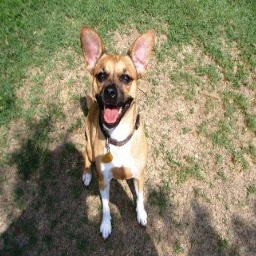dog: (74, 26, 156, 236)
